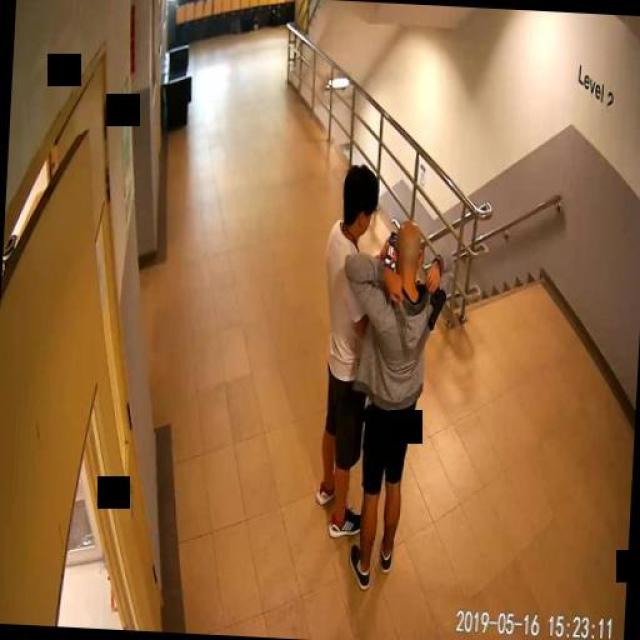gun: (424, 275, 445, 331)
